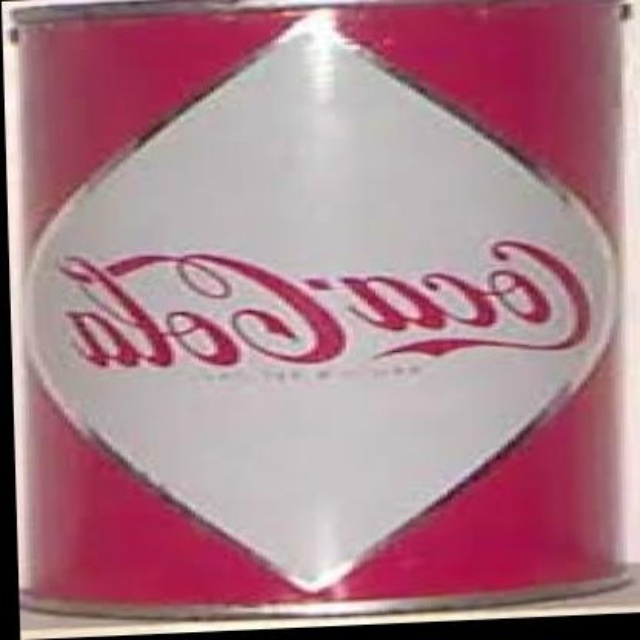trash: (5, 0, 626, 617)
